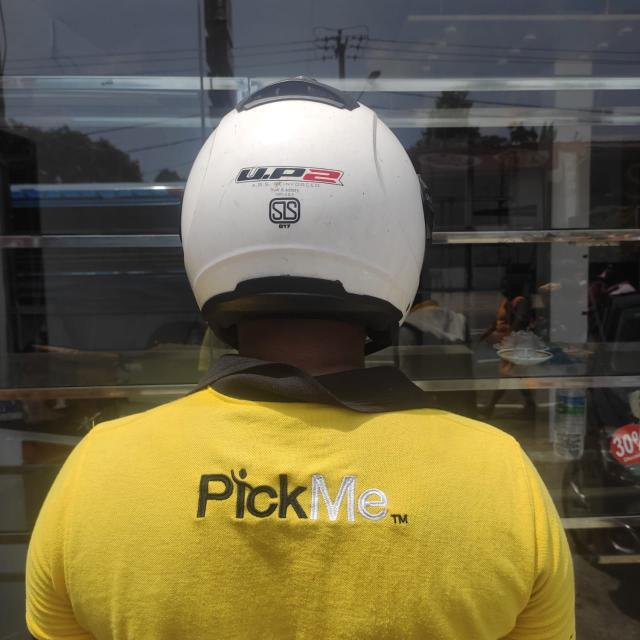helmet: (93, 54, 559, 407)
